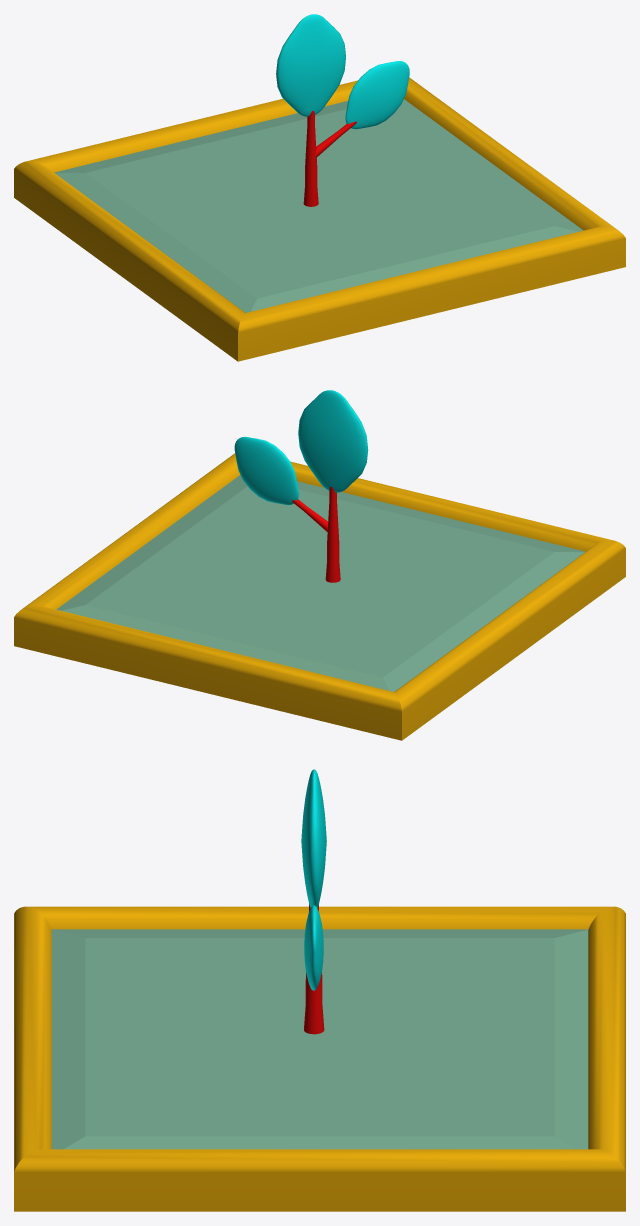
File: Stage_2.fbx
3 views of the same model, one above another, from view 1: azimuth 30°, elevation 25°; view 2: azimuth 150°, elevation 25°; view 3: azimuth 270°, elevation 25° (orthographic). The views are drawn at different scales.
Parts seen in each view (by area): view 1: Apple_Dirt_Stage_2, Apple_Bed_Stage_2, Leaf_1, Leaf_2, Stem; view 2: Apple_Dirt_Stage_2, Apple_Bed_Stage_2, Leaf_1, Leaf_2, Stem; view 3: Apple_Dirt_Stage_2, Apple_Bed_Stage_2, Leaf_1, Leaf_2, Stem.
Part boxes in pixels (x1,y1,x2,y2): Apple_Dirt_Stage_2: (54, 99, 583, 312); Apple_Bed_Stage_2: (14, 77, 625, 361); Leaf_1: (276, 14, 345, 116); Leaf_2: (345, 61, 409, 129); Stem: (303, 111, 356, 206); Apple_Dirt_Stage_2: (56, 475, 585, 691); Apple_Bed_Stage_2: (14, 453, 625, 740); Leaf_1: (298, 390, 368, 492); Leaf_2: (234, 436, 298, 504); Stem: (292, 487, 340, 582); Apple_Dirt_Stage_2: (51, 929, 588, 1149); Apple_Bed_Stage_2: (14, 906, 625, 1211); Leaf_1: (301, 769, 326, 908); Leaf_2: (304, 905, 323, 990); Stem: (304, 904, 324, 1034).
Bounding box in the file's own units: 4.24 × 2.32 × 4.24.
